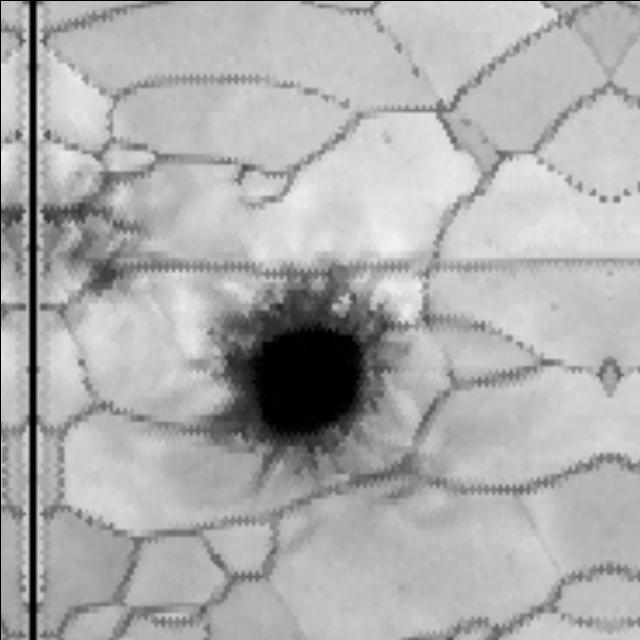good_void: (174, 246, 416, 504), (42, 176, 146, 317)
